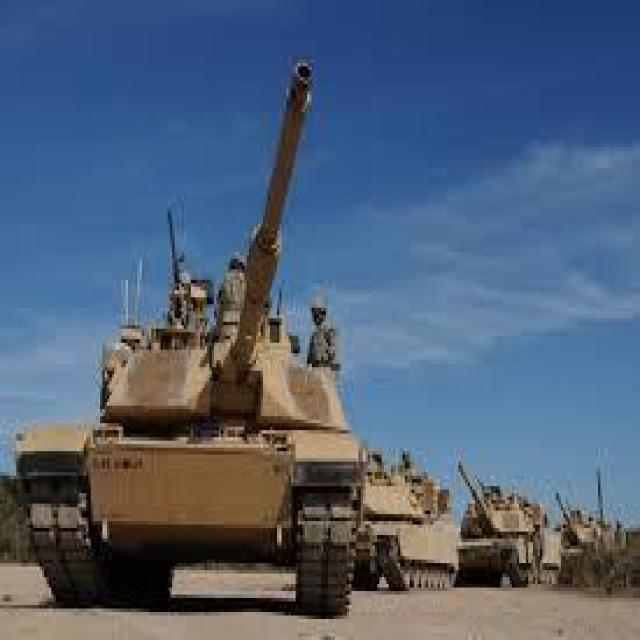MIL_MBT: (38, 51, 353, 610), (362, 435, 450, 614), (460, 451, 539, 609), (559, 467, 626, 600)
